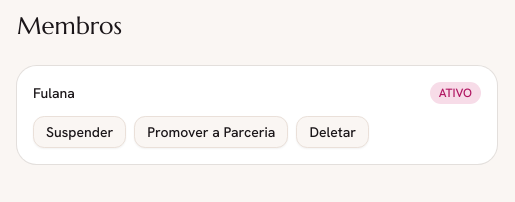
Scenario: MembrosPage › mostra a mensagem de erro original quando promover a parceria falha
This screenshot has width=515, height=202.
Click the button "Promover a Parceria". click: (211,132)
box: [134, 116, 288, 148]
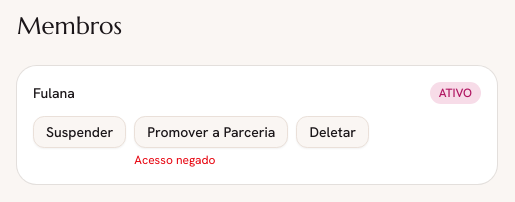
Expected: the message reads "Acesso negado", [134, 152, 216, 168]
